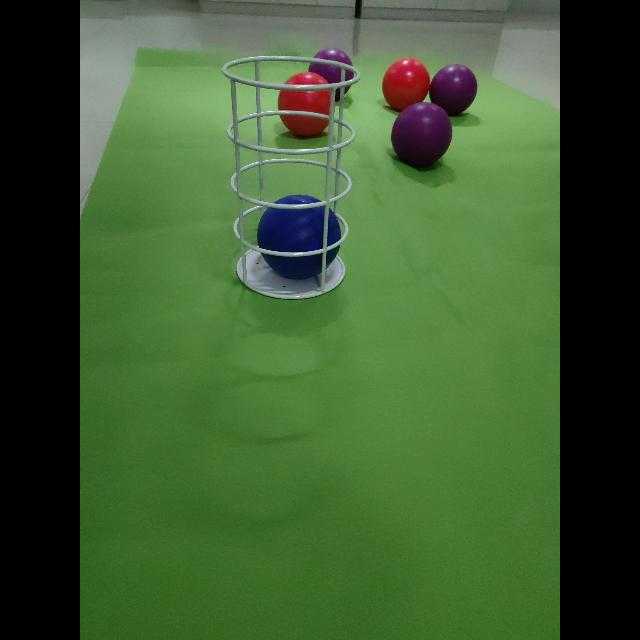B: (255, 194, 343, 276)
P: (391, 102, 452, 166), (429, 64, 478, 116), (311, 48, 354, 96)
R: (278, 72, 334, 132), (382, 58, 430, 111)
S: (222, 56, 359, 299)
